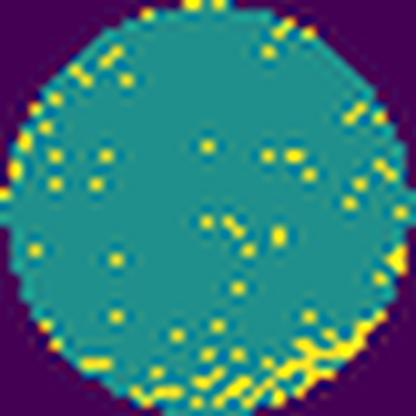Edge-Loc: (210, 303, 394, 416)
